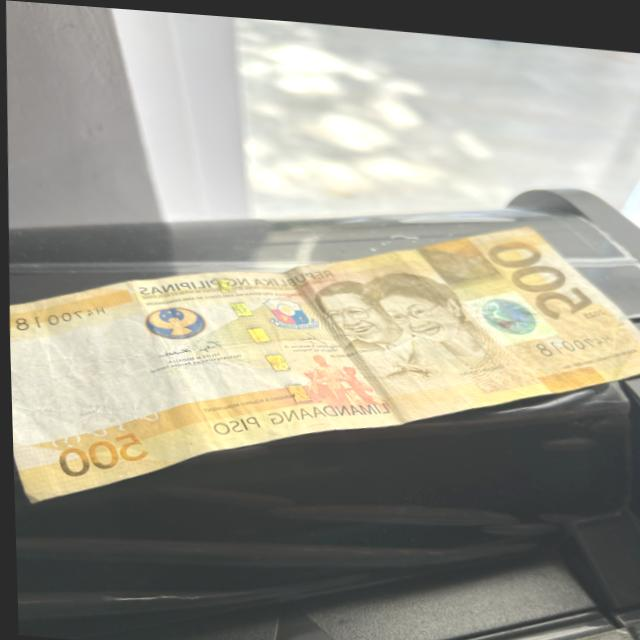concealed_value: (423, 232, 490, 279)
optically_variable_device: (476, 280, 540, 331)
watermark: (7, 304, 158, 446)
